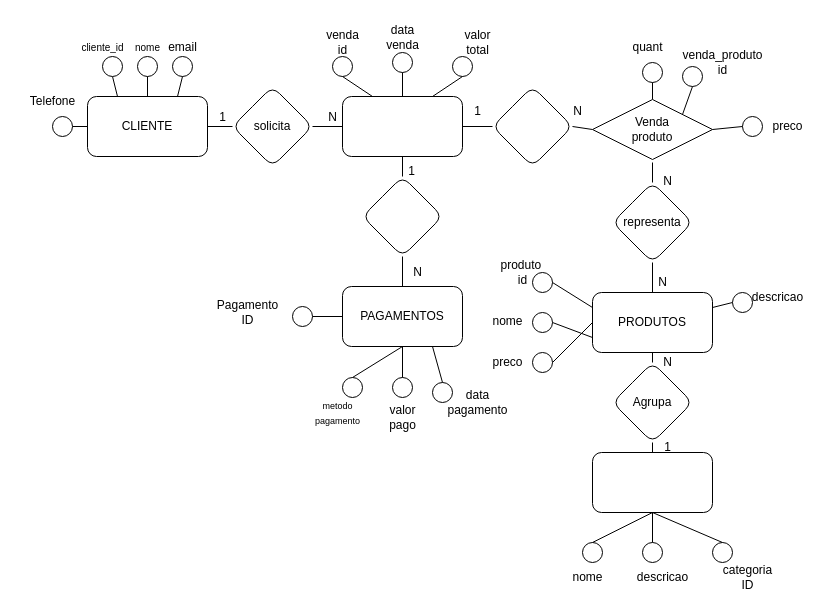
This 829x614 diagram has some shape labels left out. The centre of each missing label's shape, as x and y in pixels:
"CATEGORIAS" belongs at point (652, 482).
"contém" belongs at point (532, 126).
"VENDA" belongs at point (402, 126).
"é paga por" belongs at point (402, 216).
